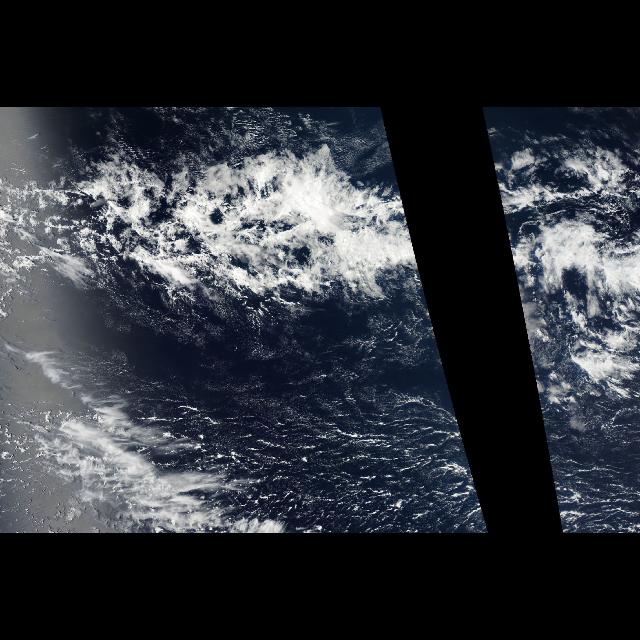Sugar: (138, 306, 476, 484)
